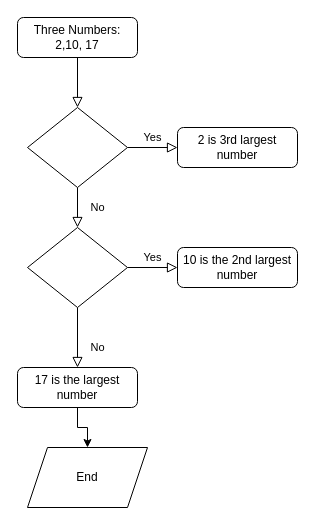
The diagram is 315 pixels wide and 525 high, and some of its shapes have lost their labels. Each missing label, with the centre of its shape:
"The 2nd number is not greater than the 3rd" goes at point (77, 267).
"The first number is the smallest" goes at point (77, 147).
